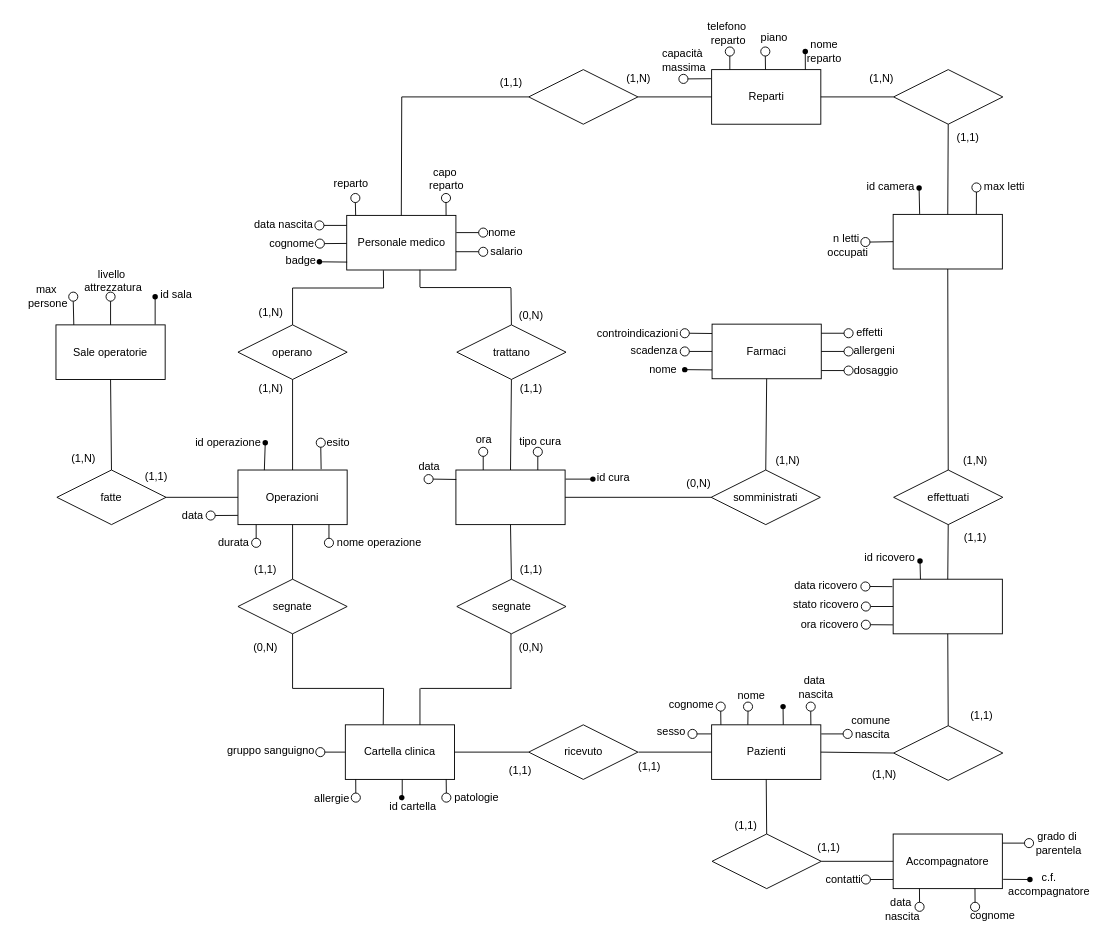
Image size: 1114x945. Some labels were removed from this diagram. The shapes that lost their labels are listed below. From the top down, each one's centre as x and y in pixels, then its label:
(x=583, y=96): lavora
(x=948, y=96): situate
(x=947, y=241): Camere
(x=510, y=497): Cure
(x=947, y=606): Ricoveri
(x=782, y=706): c.f.
(x=948, y=752): è stato
(x=766, y=861): accompagna
